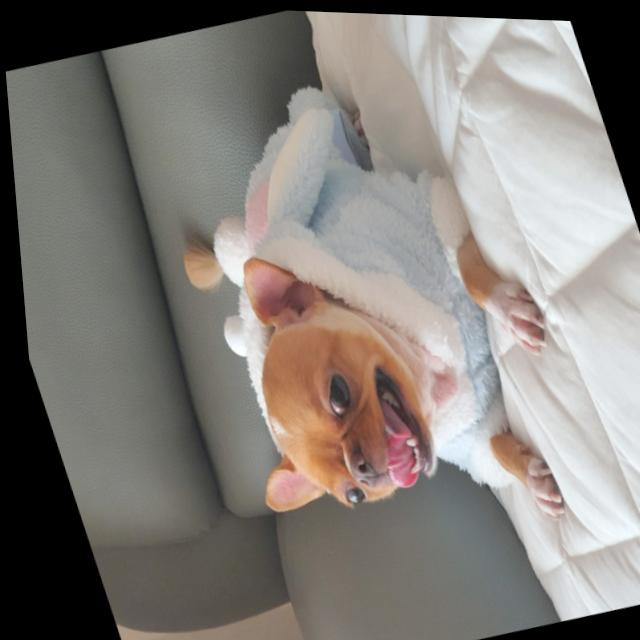dog-chihuahua: (186, 223, 455, 535)
